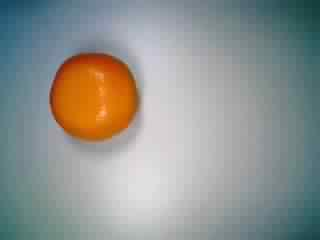orange: (46, 46, 143, 144)
